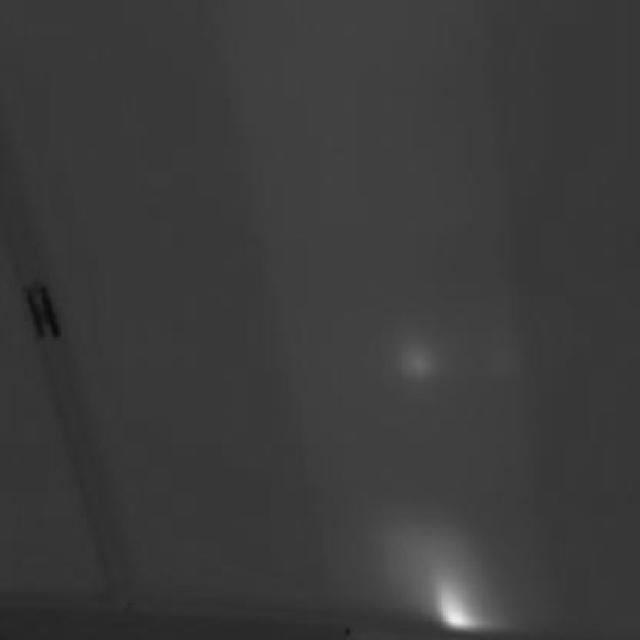hotspot: (406, 532, 489, 632)
